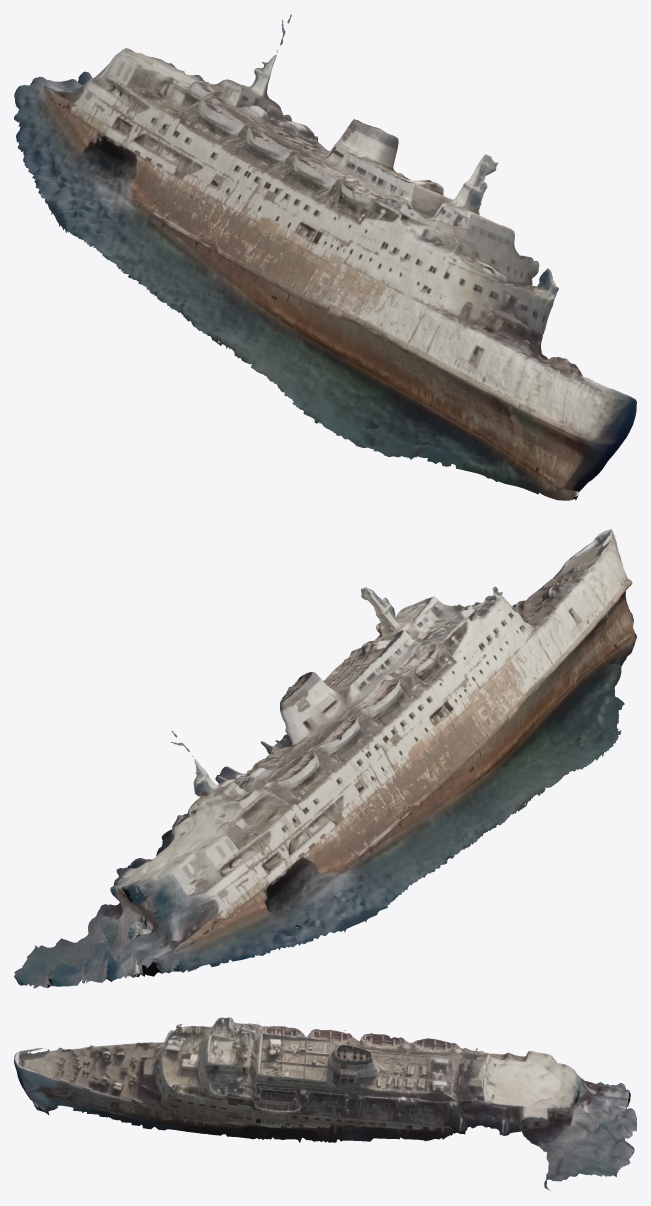
File: sf-wreck-of-cruise-ship-saudi-red-sea-coast-0c3b20.glb
The picture shows the model from 3 angles, top to bottom: view 1: azimuth 30°, elevation 25°; view 2: azimuth 150°, elevation 25°; view 3: azimuth 270°, elevation 25°; orthographic projection. The views are drawn at different scales.
Visible parts, largest first — view 1: Object_2, Object_3; view 2: Object_2, Object_3; view 3: Object_3, Object_2.
Boxes of the visible parts, x1,y1,x2,y2 form: Object_2: (18,14,634,500); Object_3: (14,19,636,500); Object_2: (64,529,636,962); Object_3: (14,529,631,988); Object_3: (14,1017,636,1190); Object_2: (14,1017,591,1172).
Size of the model in its own units: 157 by 122 by 500.
2 materials, 2 textured.
